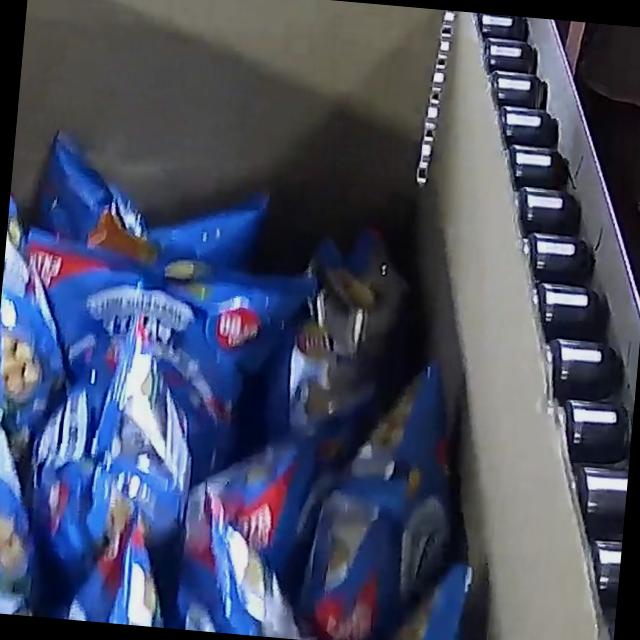paprika: (0, 123, 534, 640)
